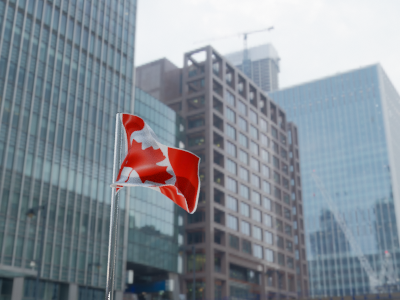Canada flag: (118, 112, 201, 215)
